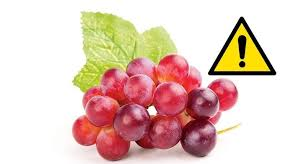Red Grapes: (65, 54, 238, 161)
